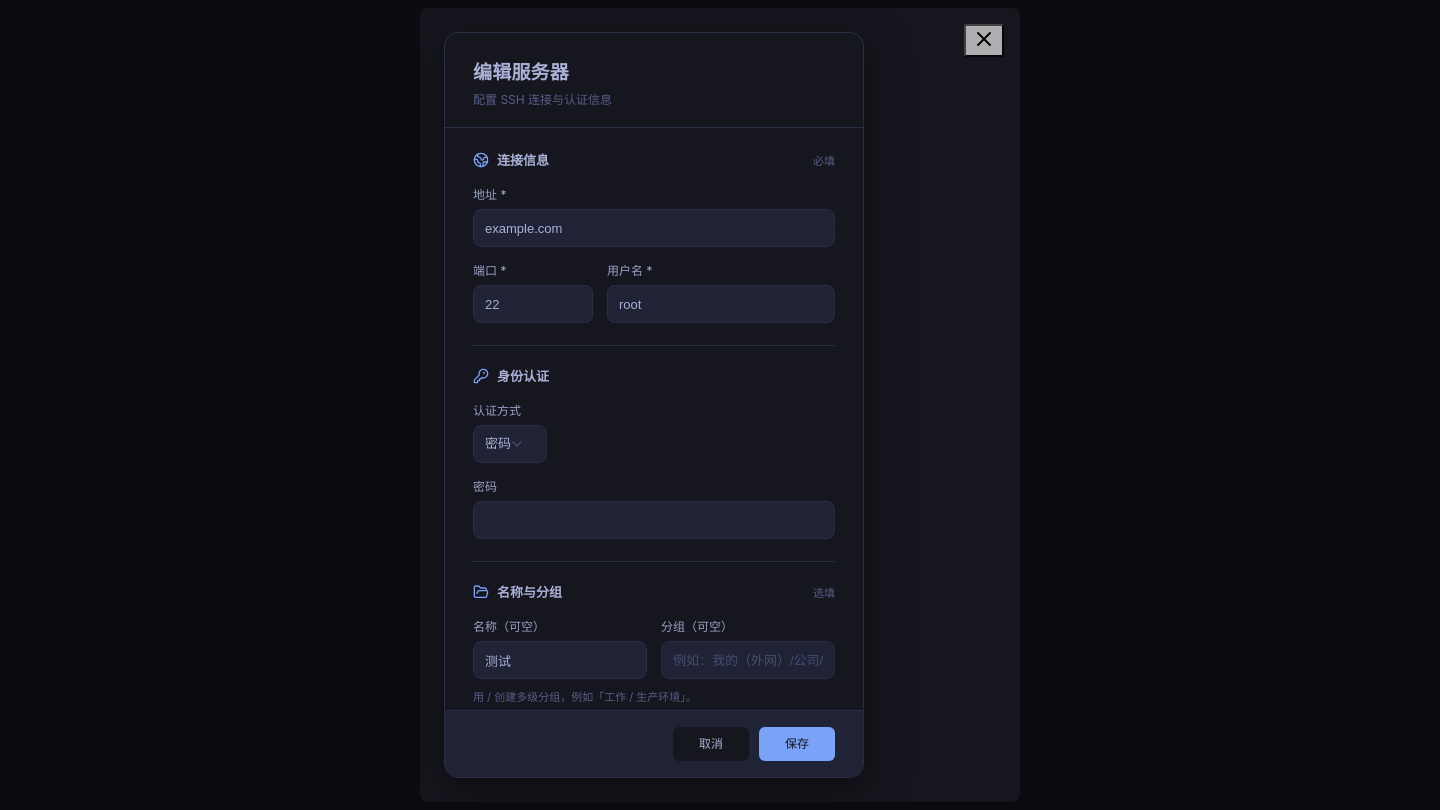
Test case: server input › requires pasted content and focuses the empty textarea
Select "私钥" in the dropdown labelled "认证方式" at (510, 444), box 473,425 -> 547,463
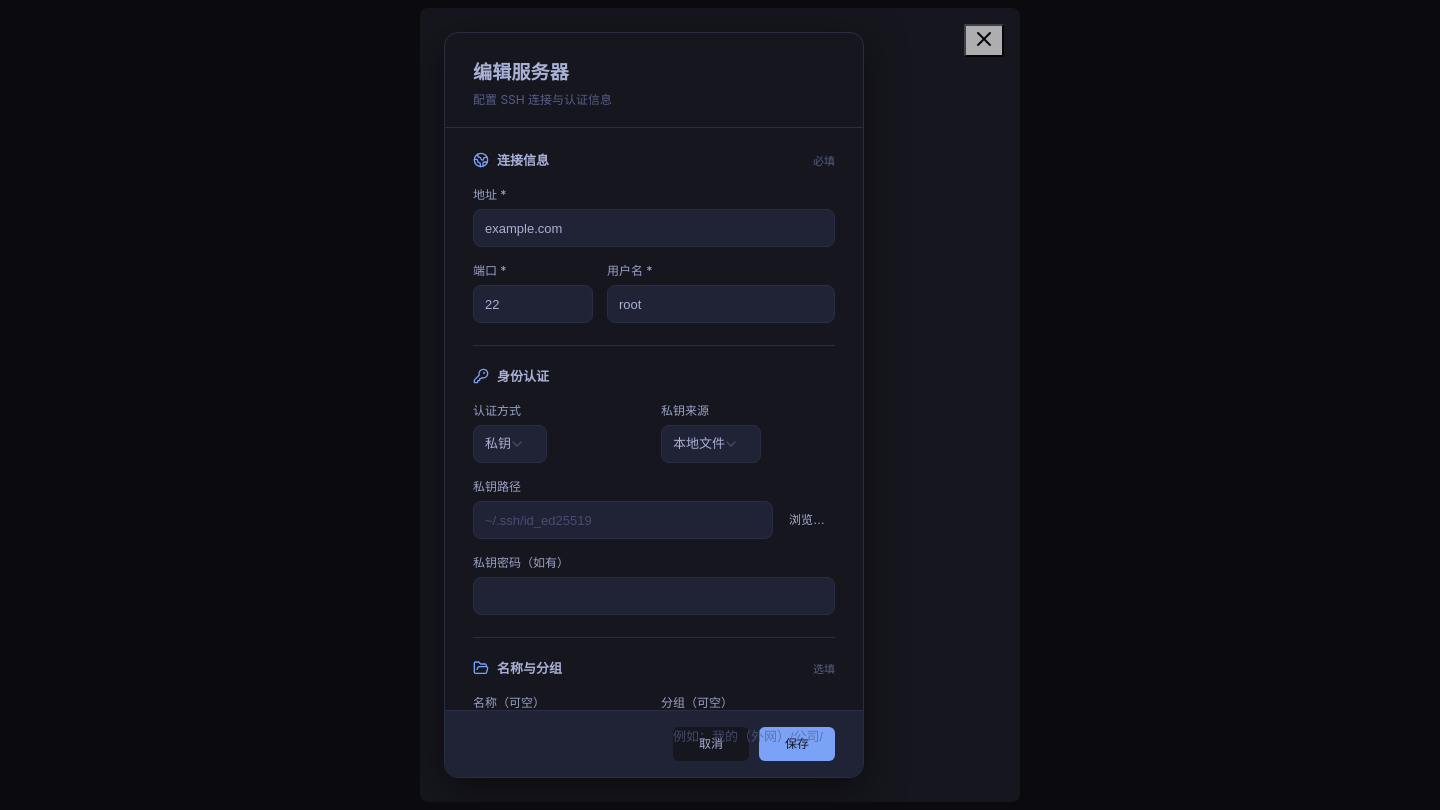
Select "粘贴私钥" in the dropdown labelled "私钥来源" at (711, 444), box 661,425 -> 761,463
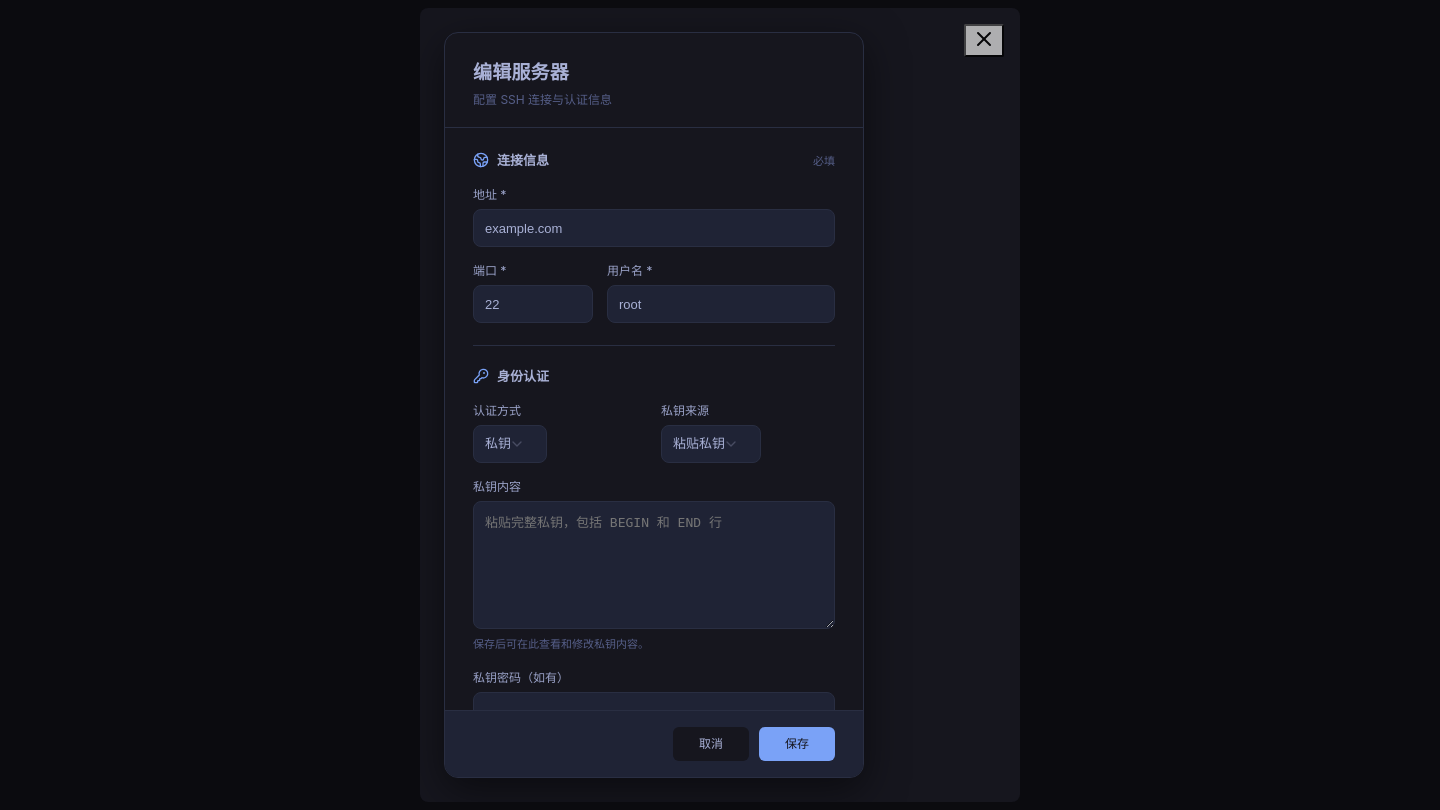
Submit the form, box 444,32 -> 864,778
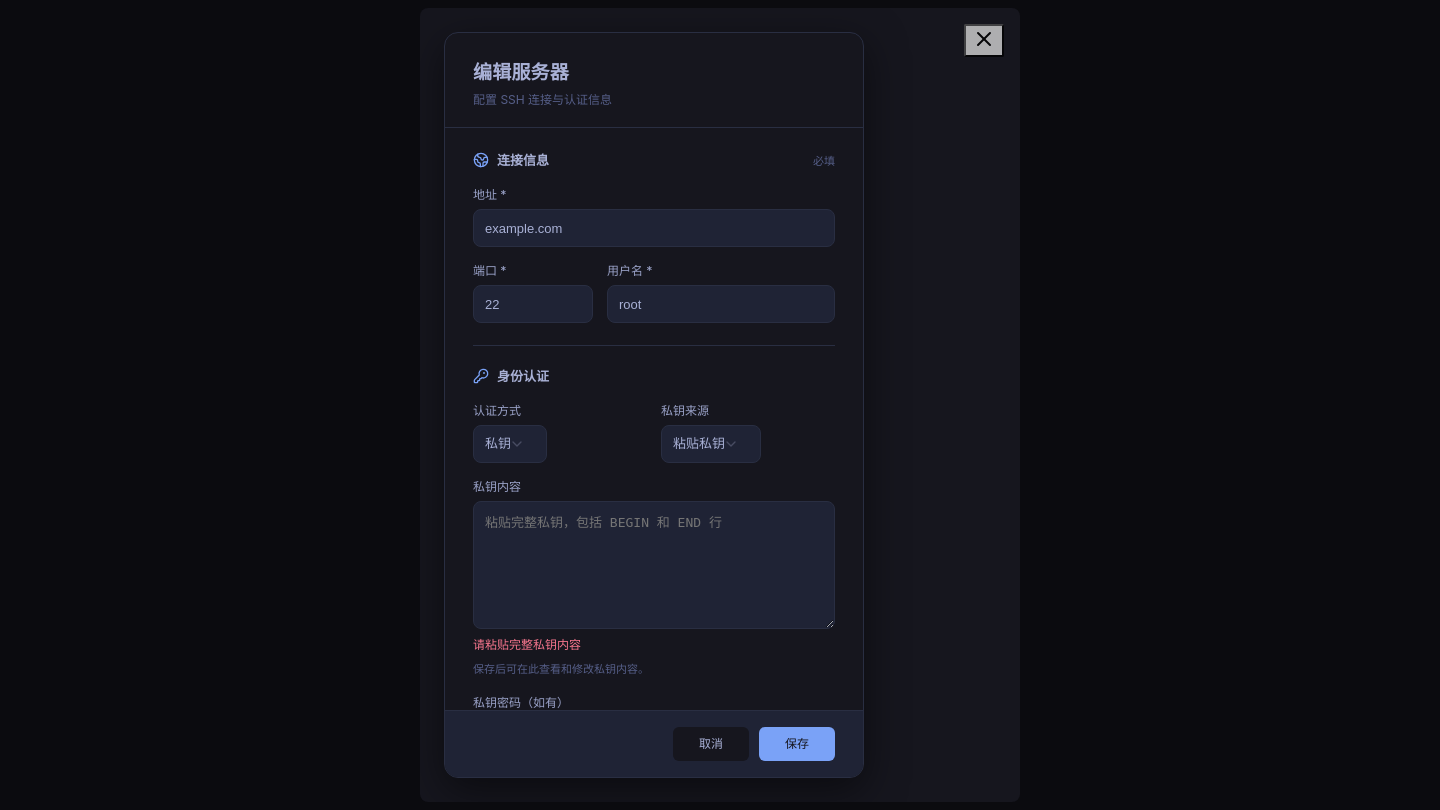
Expected: the text "请粘贴完整私钥内容" is shown, 473,637 -> 581,652
